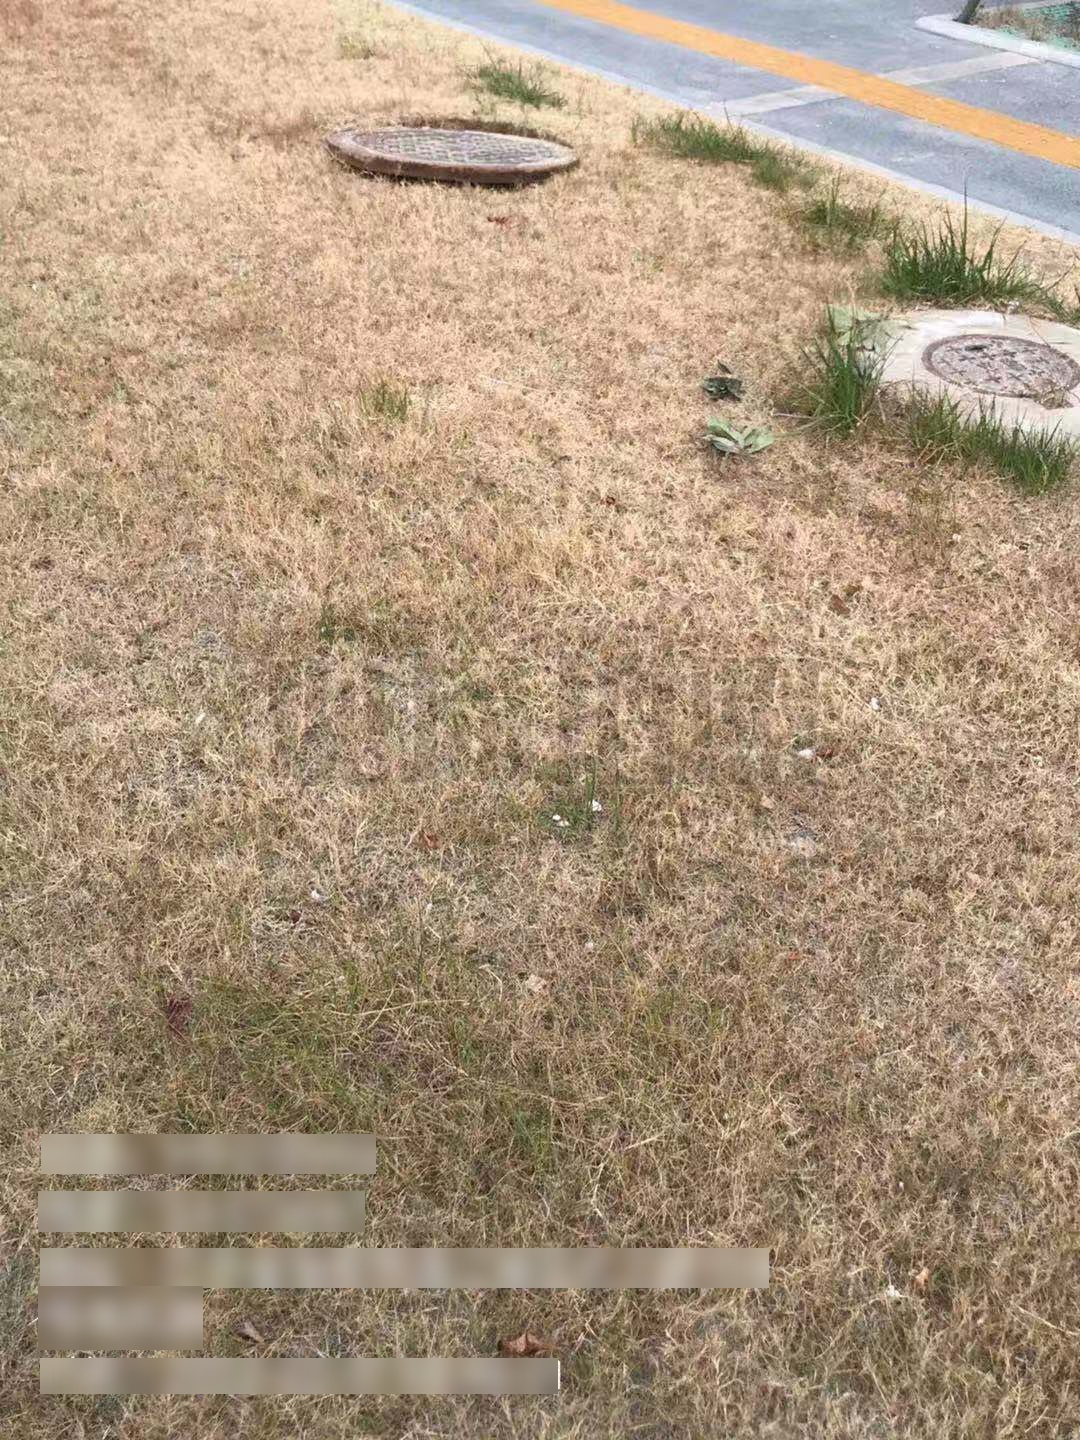uncovered: (324, 117, 577, 200)
